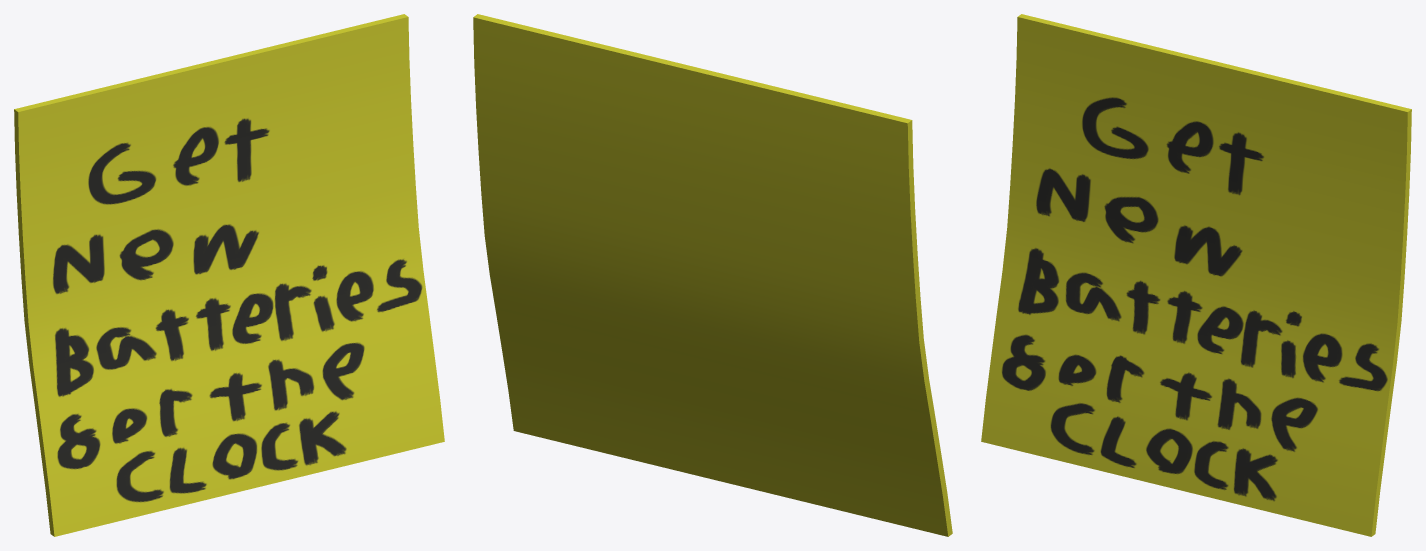
File: get new batteries for the clock.fbx
The picture shows the model from 3 angles, left to right: view 1: azimuth 30°, elevation 25°; view 2: azimuth 150°, elevation 25°; view 3: azimuth 330°, elevation 25°; orthographic projection. The views are drawn at different scales.
Visible parts, largest first — view 1: pPlane1; view 2: pPlane1; view 3: pPlane1.
Part boxes in pixels (x1,y1,x2,y2): pPlane1: (14, 14, 444, 536); pPlane1: (473, 14, 952, 536); pPlane1: (981, 14, 1411, 536).
Bounding box in the file's own units: 8.93 × 8.7 × 1.6.
